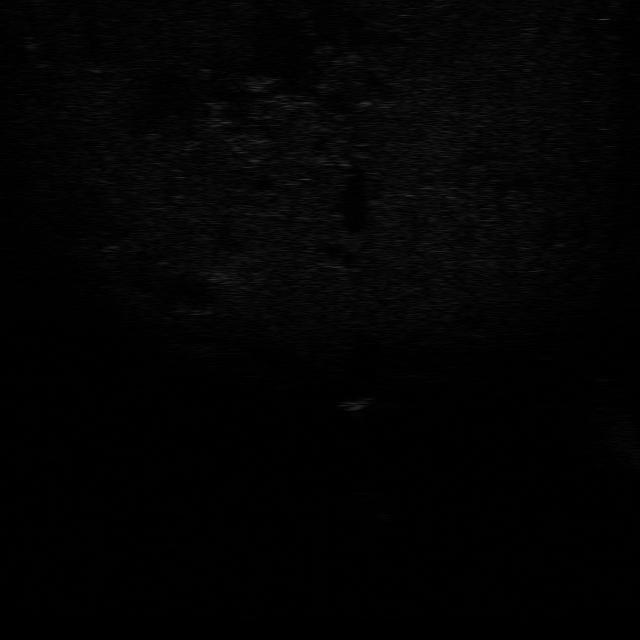square cage: (336, 394, 376, 415)
